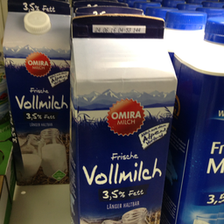milk: (68, 17, 172, 224), (4, 2, 71, 185)
